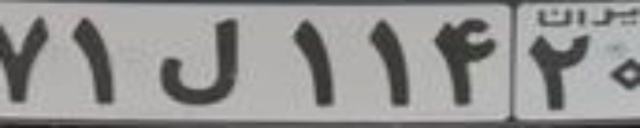0: (605, 55, 639, 90)
1: (362, 18, 412, 106), (69, 14, 116, 103), (290, 17, 332, 106)
2: (527, 33, 591, 110)
4: (434, 16, 497, 106)
7: (1, 11, 49, 104)
lam: (154, 16, 239, 104)
